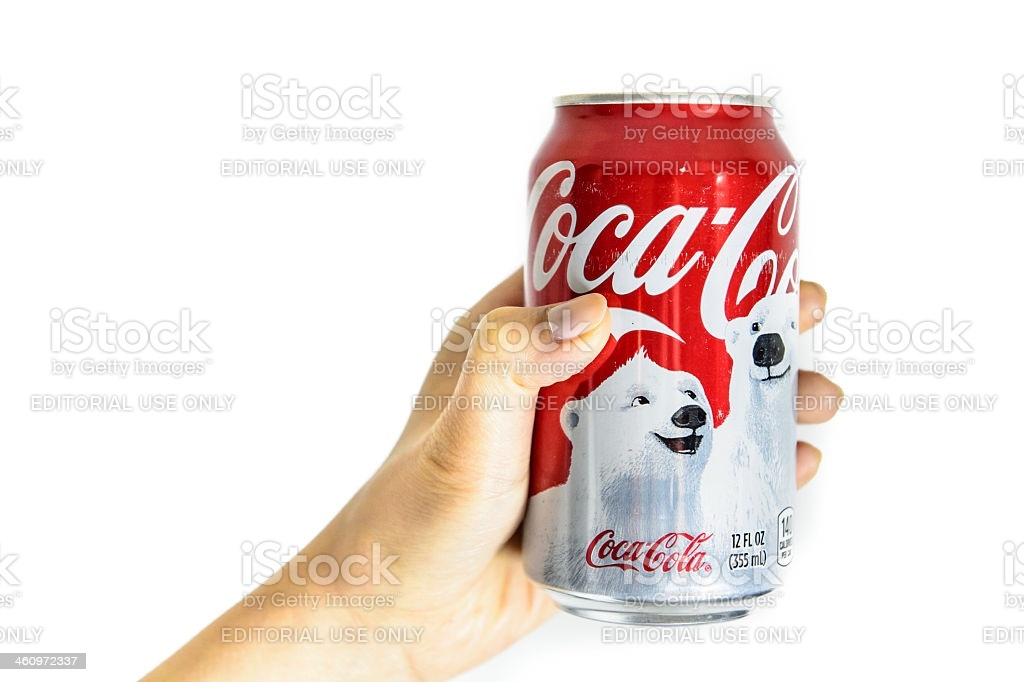can: (504, 84, 818, 637)
